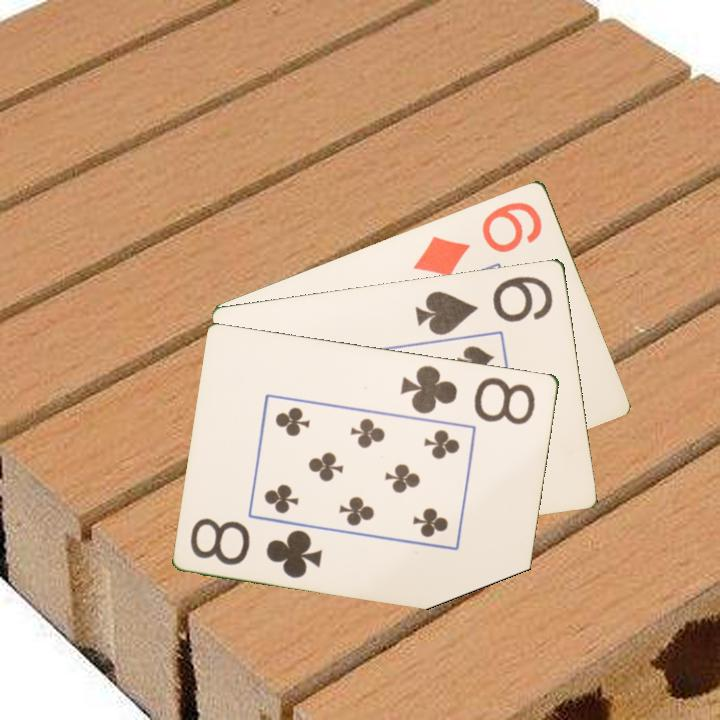6d: (409, 197, 546, 280)
6s: (412, 272, 556, 338)
8c: (397, 361, 539, 428), (187, 513, 326, 581)
